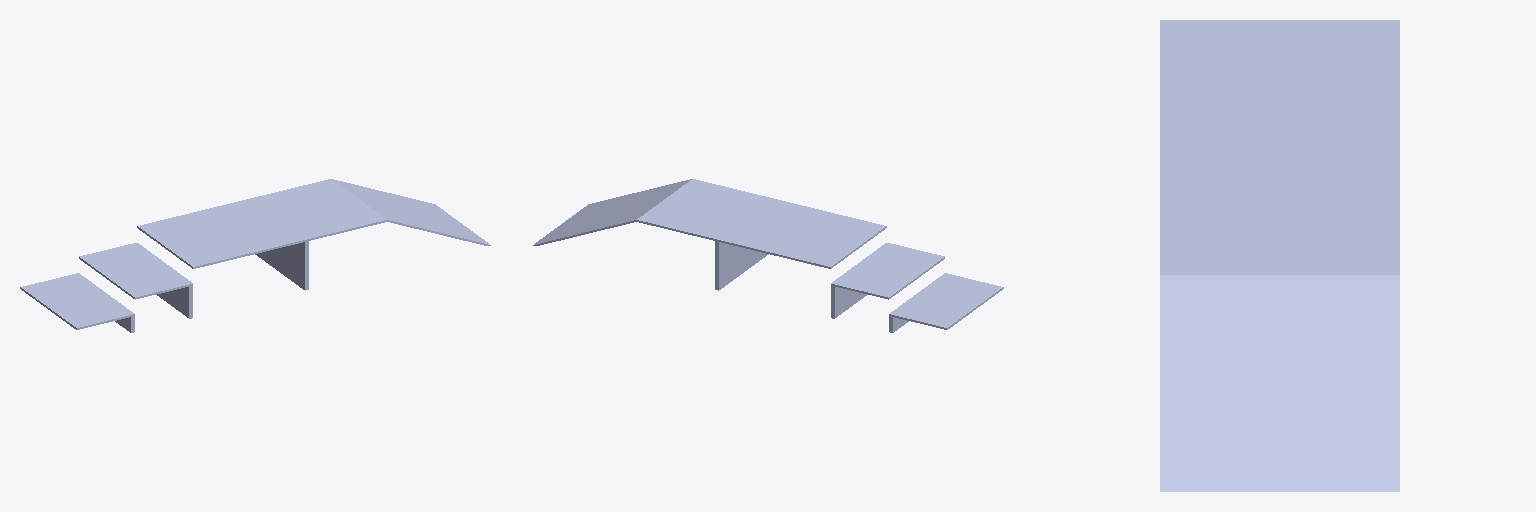
robot.urdf — map25xuongdoc:
<?xml version="1.0" encoding="utf-8"?>
<!-- This URDF was automatically created by SolidWorks to URDF Exporter! Originally created by [author] ([email redacted]) 
     Commit Version: 1.6.0-1-g15f4949  Build Version: 1.6.7594.29634
     For more information, please see http://wiki.ros.org/sw_urdf_exporter -->
<robot
  name="map25xuongdoc">
  <link
    name="base_link">
    <inertial>
      <origin
        xyz="-0.107548796793732 -2.22044604925031E-16 -0.09645283014845"
        rpy="0 0 0" />
      <mass
        value="15.4085169247939" />
      <inertia
        ixx="0.394499374632756"
        ixy="6.30530904667826E-16"
        ixz="0.173985034249234"
        iyy="1.64704070538689"
        iyz="-6.00960914048601E-17"
        izz="1.89456286928722" />
    </inertial>
    <visual>
      <origin
        xyz="0 0 0"
        rpy="0 0 0" />
      <geometry>
        <mesh
          filename="package://map25xuongdoc/meshes/base_link.STL" />
      </geometry>
      <material
        name="">
        <color
          rgba="0.792156862745098 0.819607843137255 0.933333333333333 1" />
      </material>
    </visual>
    <collision>
      <origin
        xyz="0 0 0"
        rpy="0 0 0" />
      <geometry>
        <mesh
          filename="package://map25xuongdoc/meshes/base_link.STL" />
      </geometry>
    </collision>
  </link>
</robot>

--- Facts derived from the render (not from the file) ---
3 views of the same robot in one strip: view 1: azimuth 30°, elevation 25°; view 2: azimuth 150°, elevation 25°; view 3: azimuth 270°, elevation 25° (orthographic).
Robot: map25xuongdoc — 1 links, 0 joints (none); root link base_link; default pose: every joint at zero.
Visible links, largest first — view 1: base_link; view 2: base_link; view 3: base_link.
Boxes of the visible links, box(x1,y1,x2,y2) form: base_link: box(20, 179, 490, 332); base_link: box(533, 179, 1003, 332); base_link: box(1160, 20, 1399, 491).
Bounding box of the posed robot: 2.13 × 0.5 × 0.25 m (x, y, z).
Meshes: 1 distinct files referenced, 1 mesh visuals loaded (1 binary STL).